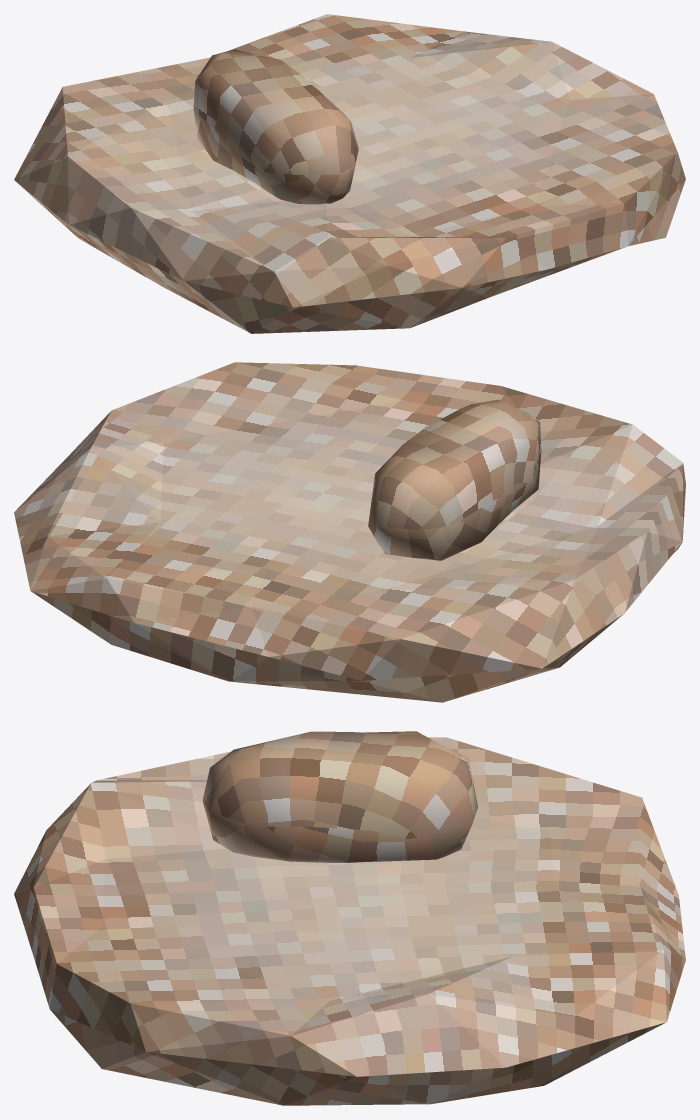
File: grinding_stone.obj
3 renders of one model, top to bottom at view 1: azimuth 30°, elevation 25°; view 2: azimuth 150°, elevation 25°; view 3: azimuth 270°, elevation 25°, orthographic. The views are drawn at different scales.
Parts seen in each view (by area): view 1: Icosphere.001_Icosphere.002, Icosphere.001_Icosphere.001; view 2: Icosphere.001_Icosphere.002, Icosphere.001_Icosphere.001; view 3: Icosphere.001_Icosphere.002, Icosphere.001_Icosphere.001.
Part boxes in pixels (bbox=[...]): Icosphere.001_Icosphere.002: bbox=[14, 14, 685, 333]; Icosphere.001_Icosphere.001: bbox=[193, 49, 358, 204]; Icosphere.001_Icosphere.002: bbox=[14, 362, 685, 702]; Icosphere.001_Icosphere.001: bbox=[368, 399, 541, 560]; Icosphere.001_Icosphere.002: bbox=[14, 737, 685, 1105]; Icosphere.001_Icosphere.001: bbox=[202, 731, 477, 862].
Bounding box in the file's own units: 1.07 × 0.2964 × 0.9978.
